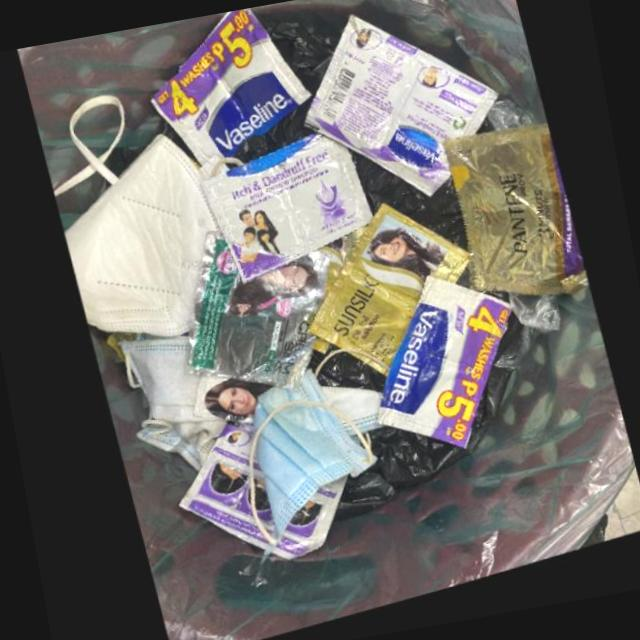goi_nhua_nho: (304, 21, 498, 204), (305, 210, 466, 375), (149, 8, 310, 170), (199, 139, 370, 288), (442, 133, 586, 305), (173, 423, 342, 567), (179, 236, 328, 397), (371, 284, 508, 457)
khau_trang: (61, 136, 215, 339), (248, 373, 378, 561), (115, 339, 222, 474)
